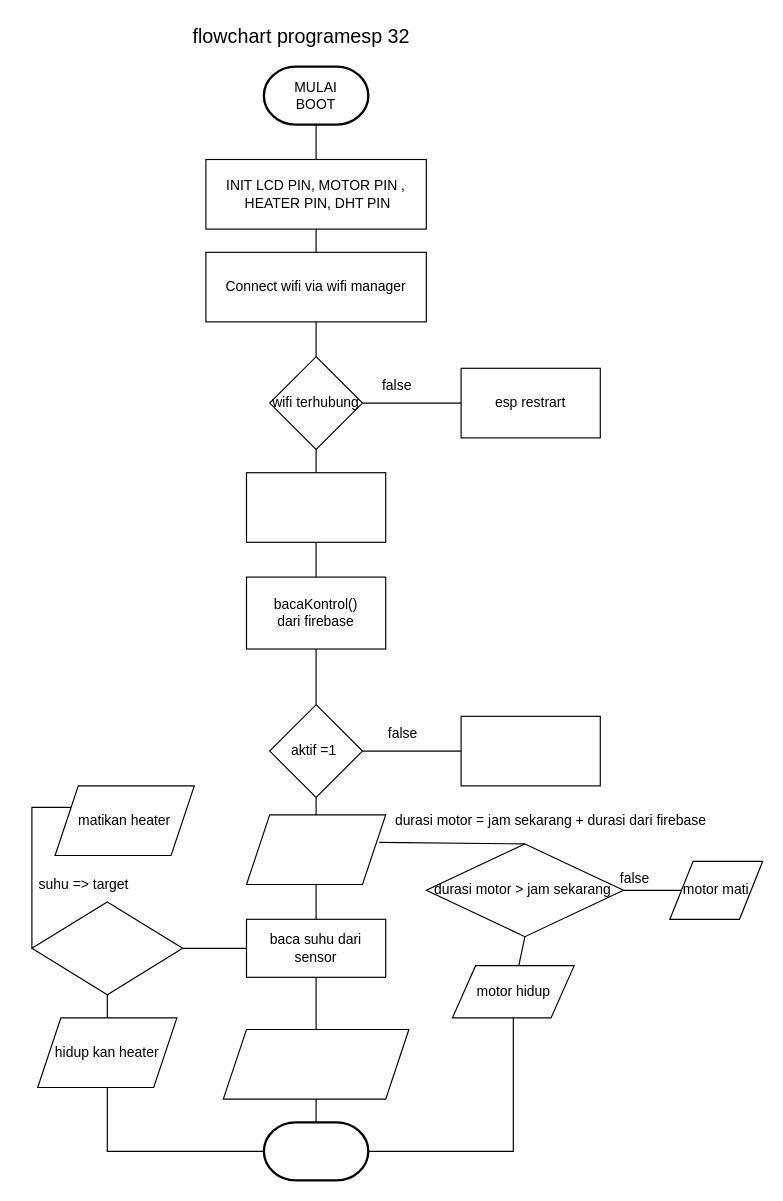
This 783x1201 diagram has some shape labels left out. Here are the shapes that lost their labels. From the top down, the centre of each, then its label:
the point at 315,507: Connect firebase
the point at 530,750: baca dan hanya kirim data suhu
the point at 315,849: ambil data pwm motor, durasi motor , dan target suhu
the point at 107,948: suhu < target
the point at 315,1063: kirim status suhu,status heater dan motor ke firebase
the point at 315,1151: selesai
